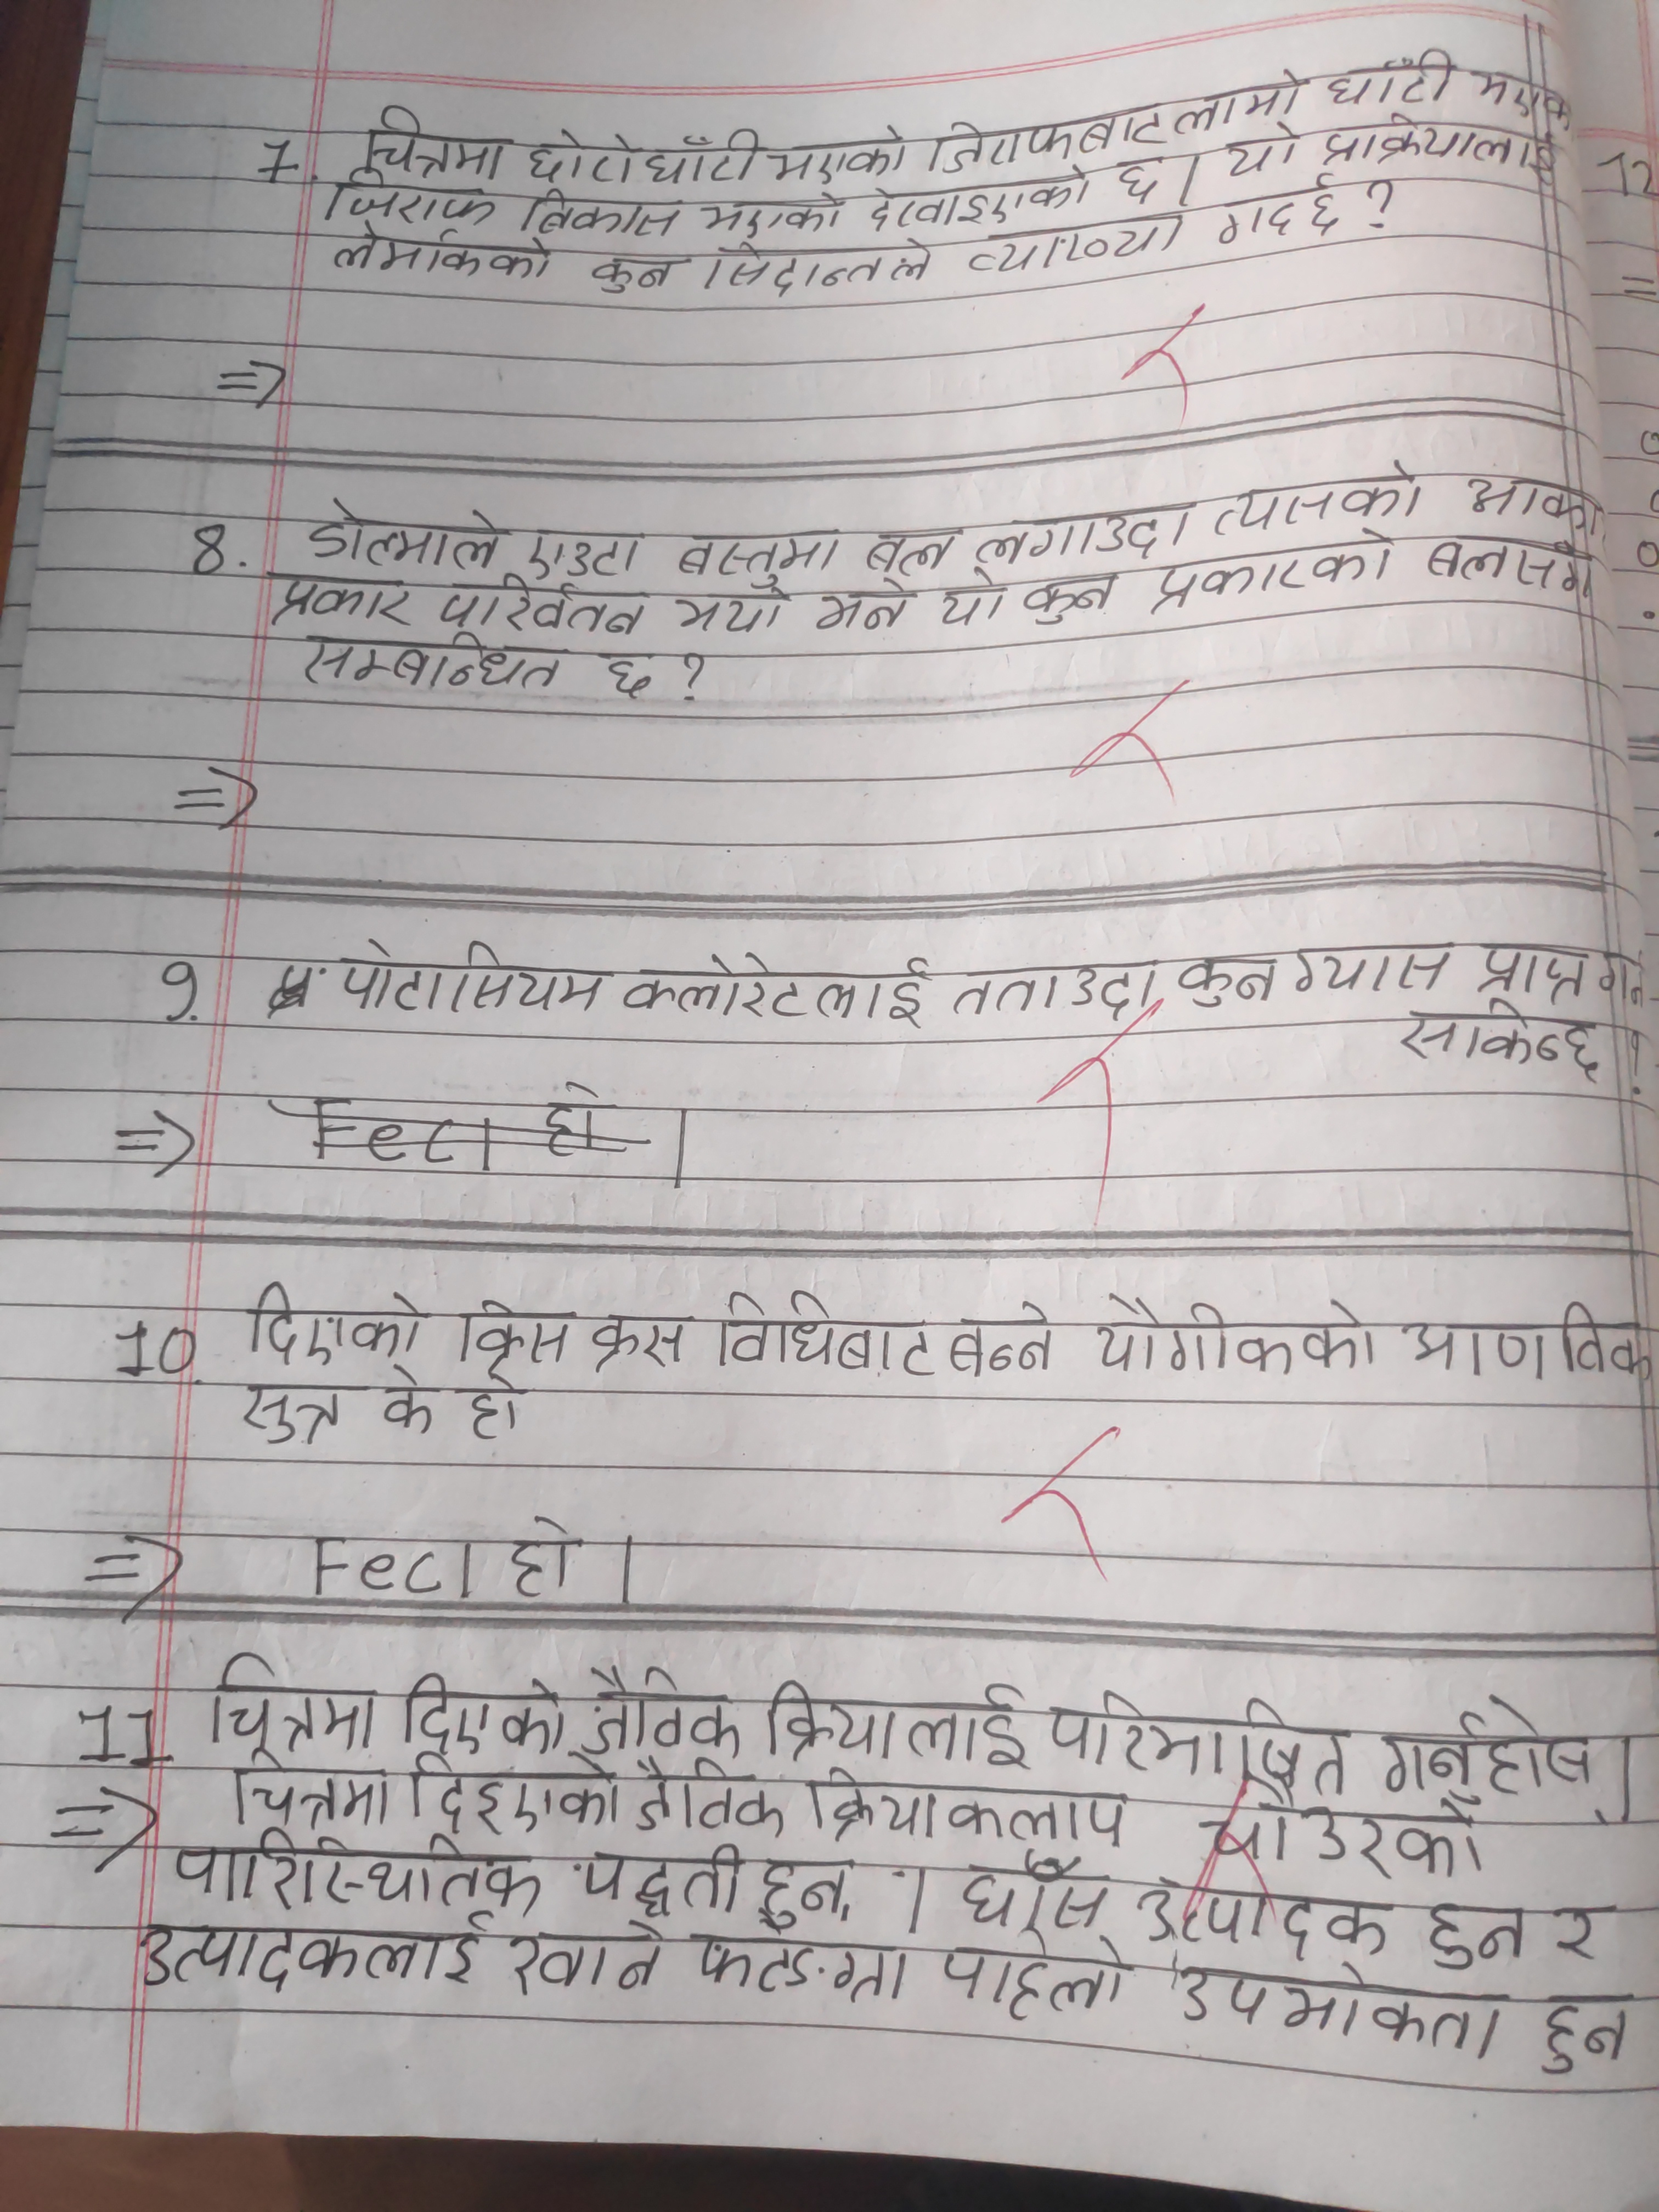text: (1164, 1954, 1514, 2078), (1049, 1686, 1356, 1804), (167, 1827, 545, 1919), (127, 1909, 491, 1998), (1209, 1778, 1497, 1885), (793, 1768, 1131, 1855), (1080, 1287, 1382, 1383), (760, 1679, 1037, 1778), (1129, 1869, 1399, 1965), (335, 930, 615, 1019), (627, 951, 932, 1029), (1377, 1696, 1596, 1804), (708, 1285, 936, 1383), (1399, 1299, 1659, 1385), (199, 1651, 380, 1759), (291, 629, 563, 700), (401, 1752, 629, 1836), (931, 1930, 1131, 2024), (1389, 995, 1605, 1078), (1152, 529, 1392, 604), (687, 1926, 913, 2005), (1321, 111, 1565, 183), (390, 1669, 575, 1763), (303, 495, 511, 577), (232, 1275, 429, 1360), (326, 219, 552, 291), (577, 1669, 746, 1761), (701, 235, 939, 300), (978, 496, 1197, 566), (924, 106, 1171, 167), (218, 1747, 394, 1832), (1209, 462, 1422, 531), (436, 571, 647, 641), (946, 951, 1161, 1019), (965, 209, 1187, 273), (626, 1756, 788, 1843), (950, 1850, 1112, 1933), (568, 1843, 748, 1918), (854, 171, 1093, 226), (504, 1919, 671, 1998), (347, 105, 512, 183), (1422, 531, 1605, 601), (1455, 455, 1608, 536), (666, 524, 843, 589), (512, 185, 694, 247), (1293, 932, 1459, 998), (451, 1292, 579, 1378), (328, 167, 500, 230), (263, 566, 418, 634), (1317, 45, 1464, 113), (1530, 1991, 1635, 2085), (945, 1301, 1061, 1383), (1469, 930, 1593, 1007), (762, 127, 917, 188), (1415, 1898, 1539, 1970), (502, 1500, 586, 1601), (525, 517, 650, 583), (1209, 181, 1340, 244), (694, 190, 856, 239), (1467, 57, 1577, 129), (1173, 75, 1309, 132), (755, 1855, 857, 1930), (586, 1310, 690, 1379), (857, 517, 967, 583), (662, 585, 800, 637), (523, 125, 640, 186), (648, 127, 765, 188), (1175, 953, 1284, 1014), (810, 580, 922, 639), (1018, 573, 1117, 632), (1220, 115, 1302, 181), (587, 251, 683, 307), (587, 641, 664, 711), (932, 575, 1007, 637), (1546, 1898, 1612, 1968), (1108, 155, 1169, 204)
